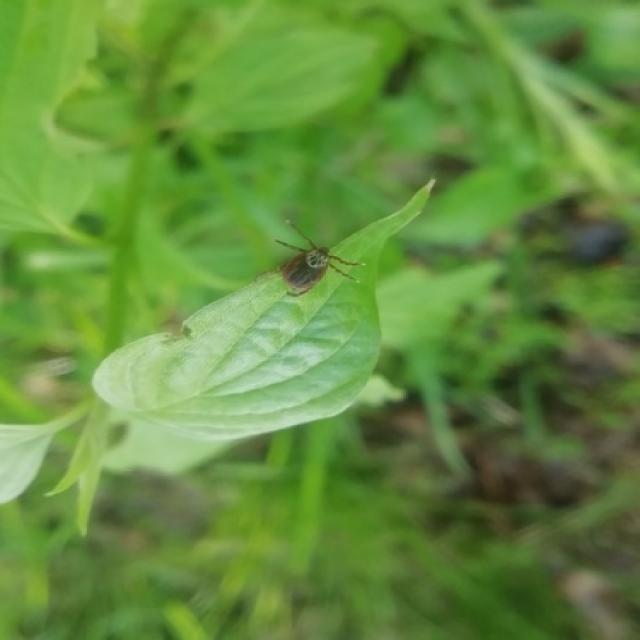Dermacentor Reticulatus-F: (271, 218, 365, 296)
